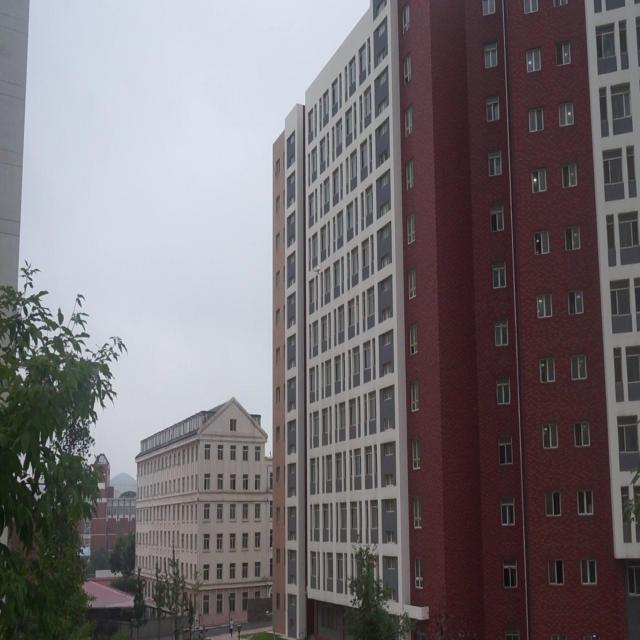UAV: (313, 265, 322, 275)
